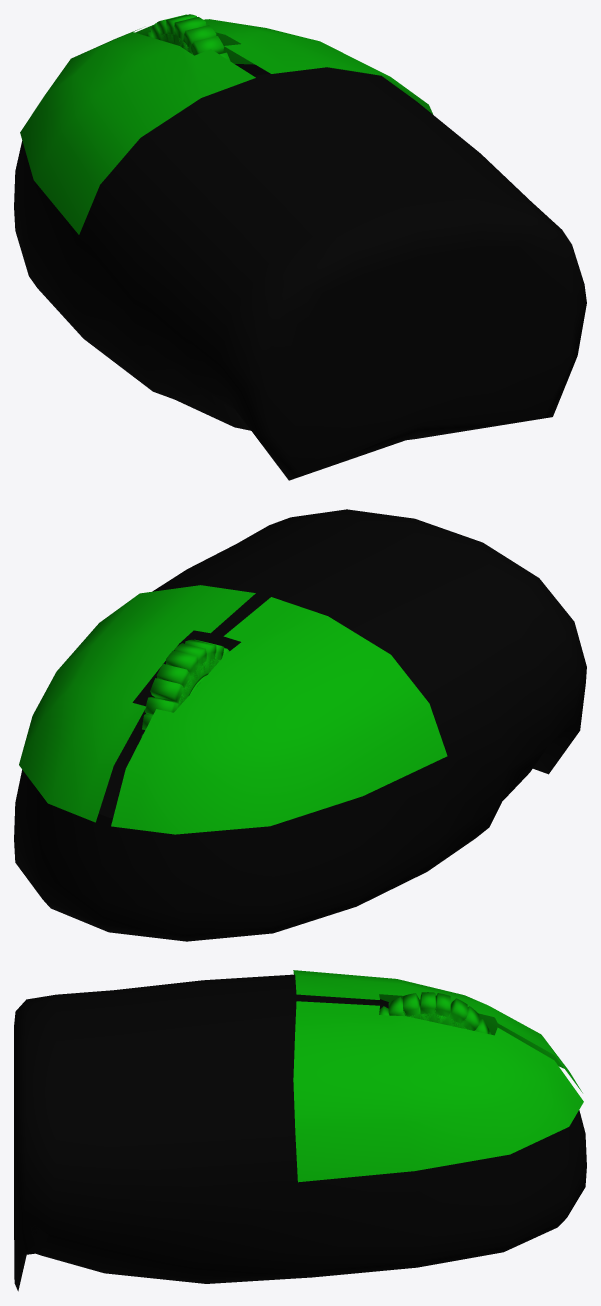
Rendered from Мышь.fbx.
3 renders of one model, top to bottom at view 1: azimuth 30°, elevation 25°; view 2: azimuth 150°, elevation 25°; view 3: azimuth 270°, elevation 25°, orthographic. The views are drawn at different scales.
Visible parts, largest first — view 1: Gear.001; view 2: Gear.001; view 3: Gear.001.
Part boxes in pixels (bbox=[...]): Gear.001: bbox=[14, 14, 586, 480]; Gear.001: bbox=[14, 509, 586, 941]; Gear.001: bbox=[14, 970, 586, 1291].
Size of the model in its own units: 22.71 by 15.4 by 33.99.
